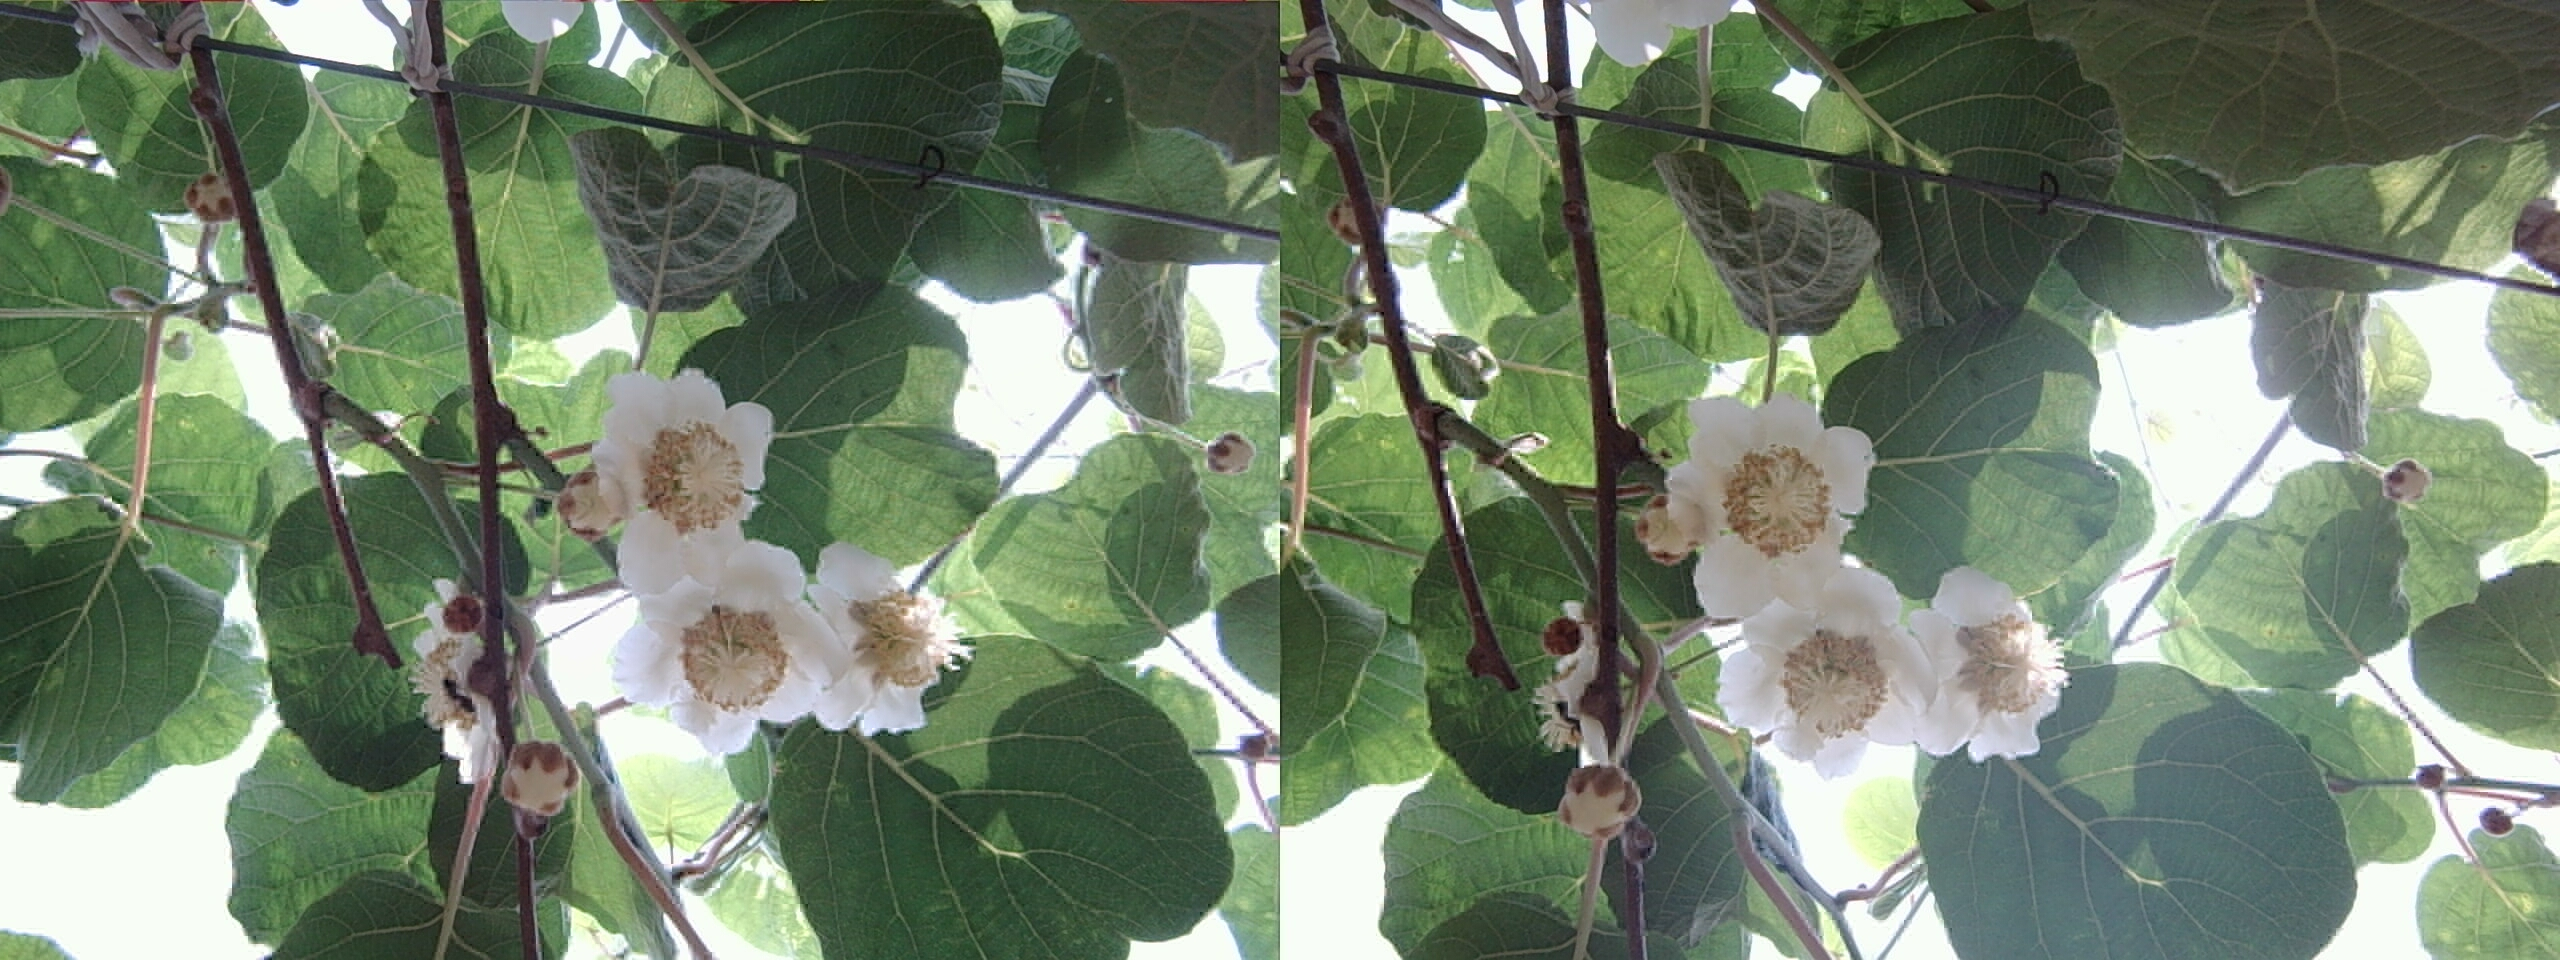flower: (606, 522, 852, 746), (1638, 387, 1878, 614), (1709, 565, 1944, 767), (560, 364, 780, 578), (1899, 565, 2078, 754), (797, 540, 971, 731)
